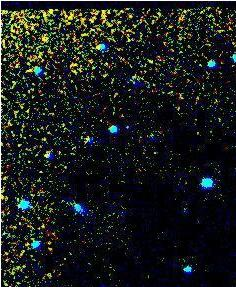star: (29, 20, 59, 50)
